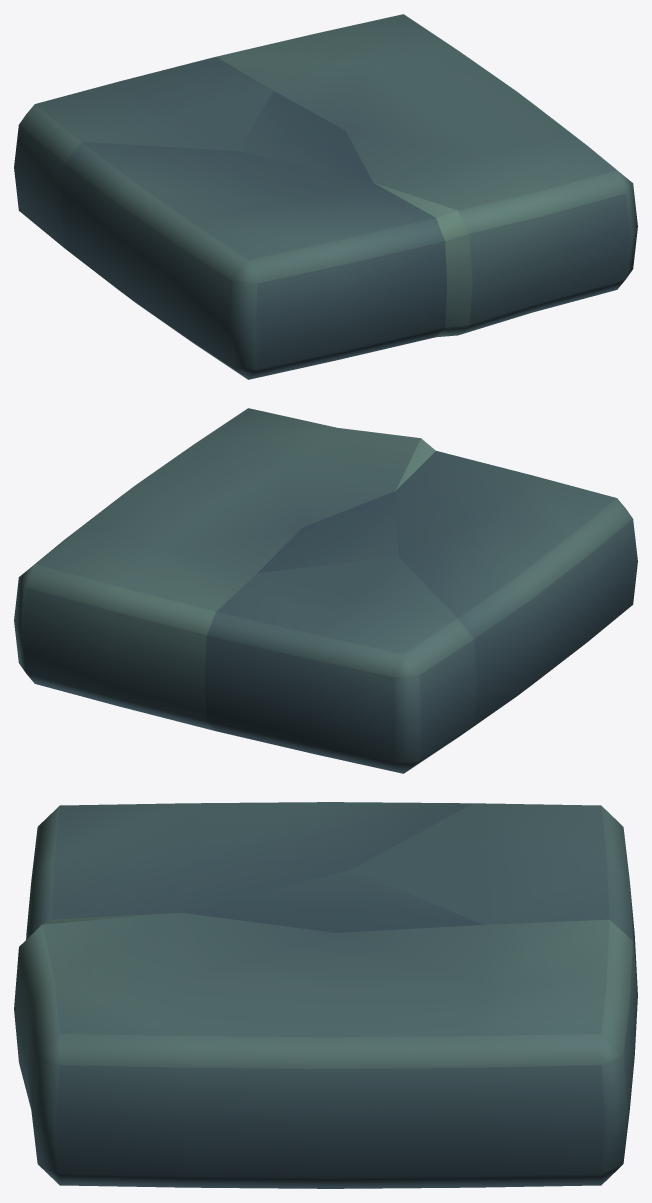
File: cube_05_shade_4_LOD_setup.fbx
3 renders of one model, top to bottom at view 1: azimuth 30°, elevation 25°; view 2: azimuth 150°, elevation 25°; view 3: azimuth 270°, elevation 25°, orthographic. The views are drawn at different scales.
Visible parts, largest first — view 1: cube_05_shade_4_LOD0; view 2: cube_05_shade_4_LOD0; view 3: cube_05_shade_4_LOD0.
Part boxes in pixels (box(x1,y1,x2,y2)): cube_05_shade_4_LOD0: box(14, 14, 637, 379); cube_05_shade_4_LOD0: box(14, 408, 637, 773); cube_05_shade_4_LOD0: box(14, 802, 637, 1188).
Size of what is drawn, in the model's own units: 214 by 60.78 by 217.
